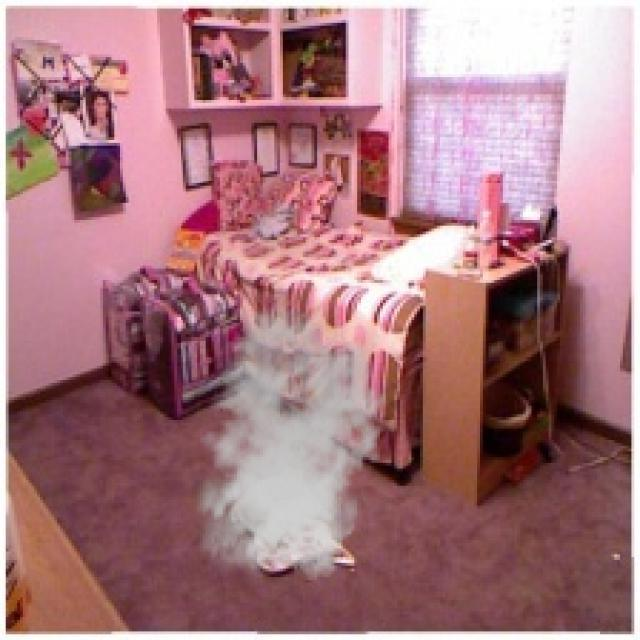Smoke: (185, 306, 388, 588)
